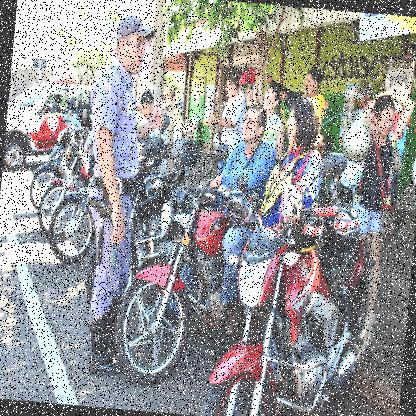Car: (3, 80, 92, 173)
